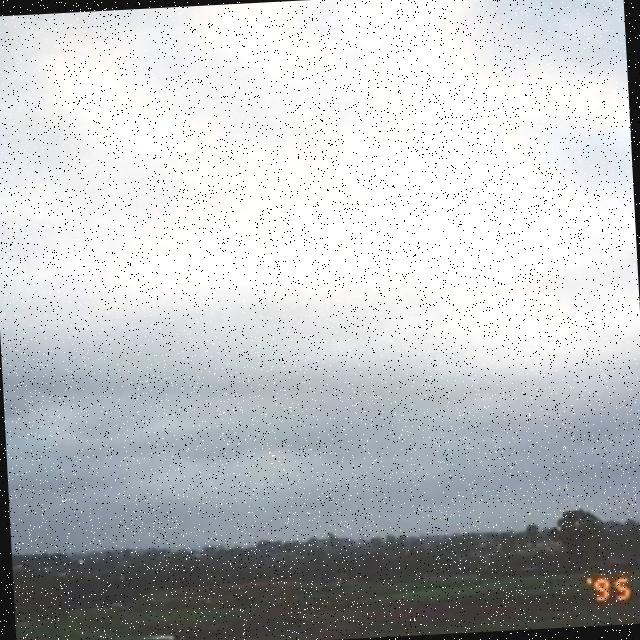Sc: (1, 43, 640, 474)
